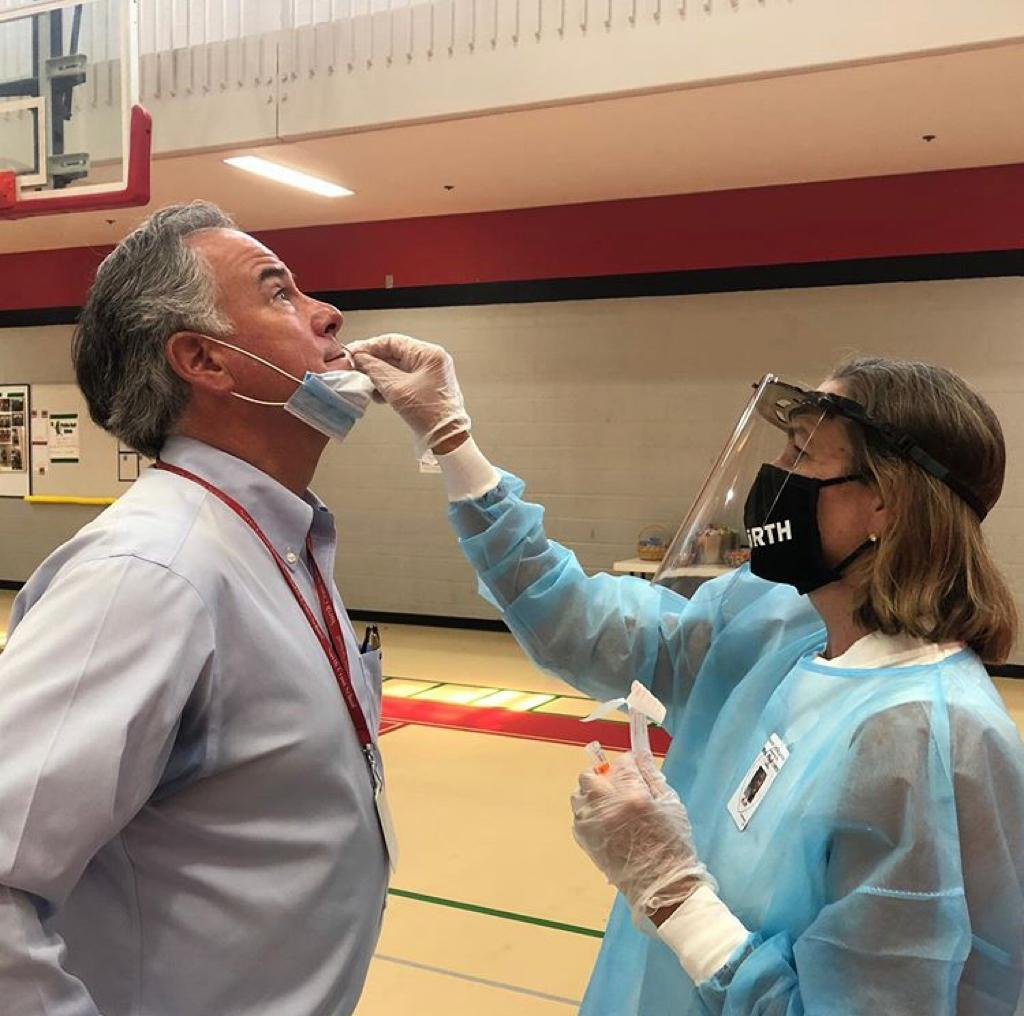mouth: (323, 349, 346, 366)
nose: (311, 303, 342, 334)
